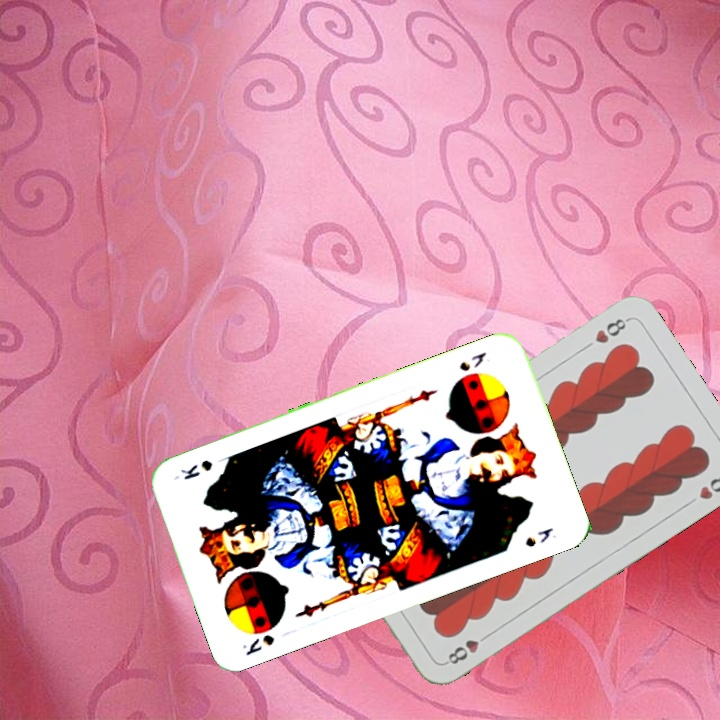H8: (442, 629, 493, 667), (590, 313, 632, 346)
SK: (238, 630, 277, 659), (455, 348, 489, 374)
